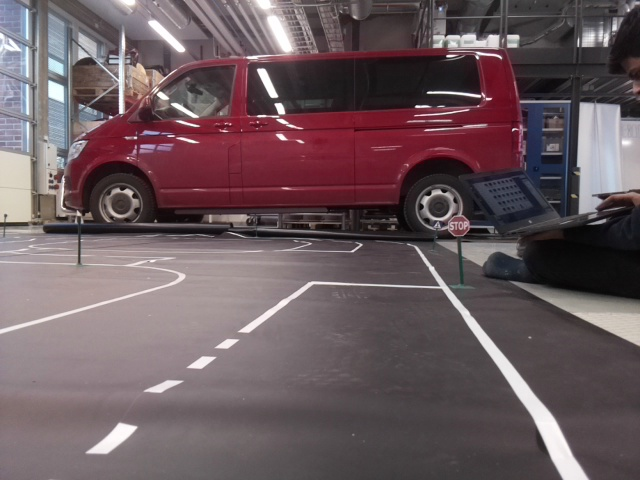Stop: (449, 214, 469, 236)
